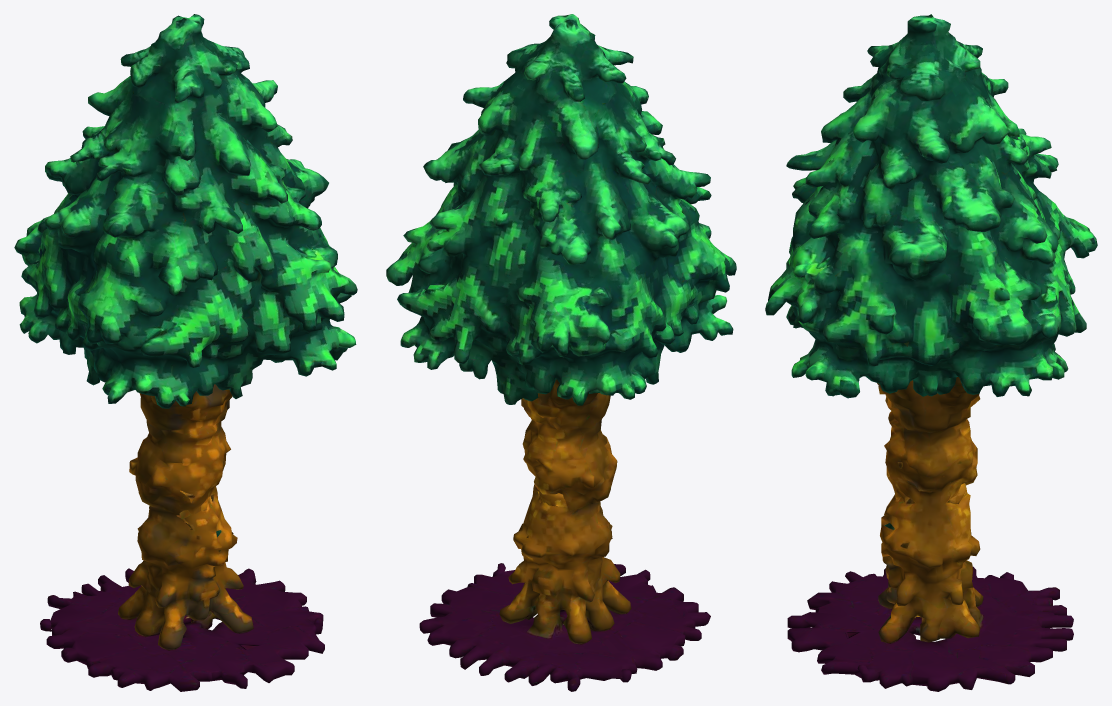
The model's file is midnight_evergreen.glb.
3 renders of one model, left to right at view 1: azimuth 30°, elevation 25°; view 2: azimuth 150°, elevation 25°; view 3: azimuth 270°, elevation 25°, orthographic.
Bounding box in the file's own units: 0.8689 × 1.91 × 0.9315.
1 material, 1 textured.
